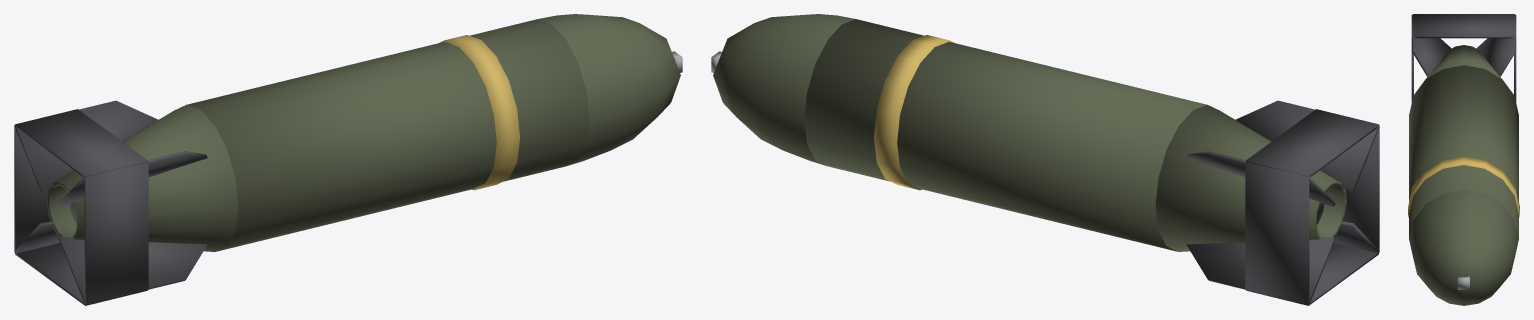
File: bombdrop_1.glb
3 views of the same model, side by side, from view 1: azimuth 30°, elevation 25°; view 2: azimuth 150°, elevation 25°; view 3: azimuth 270°, elevation 25° (orthographic). The views are drawn at different scales.
Visible parts, largest first — view 1: bombdrop_1; view 2: bombdrop_1; view 3: bombdrop_1.
Boxes of the visible parts, bbox=[...] form: bombdrop_1: bbox=[14, 14, 682, 305]; bombdrop_1: bbox=[711, 14, 1379, 305]; bombdrop_1: bbox=[1408, 14, 1519, 305].
Bounding box in the file's own units: 1 × 0.212 × 0.212.
